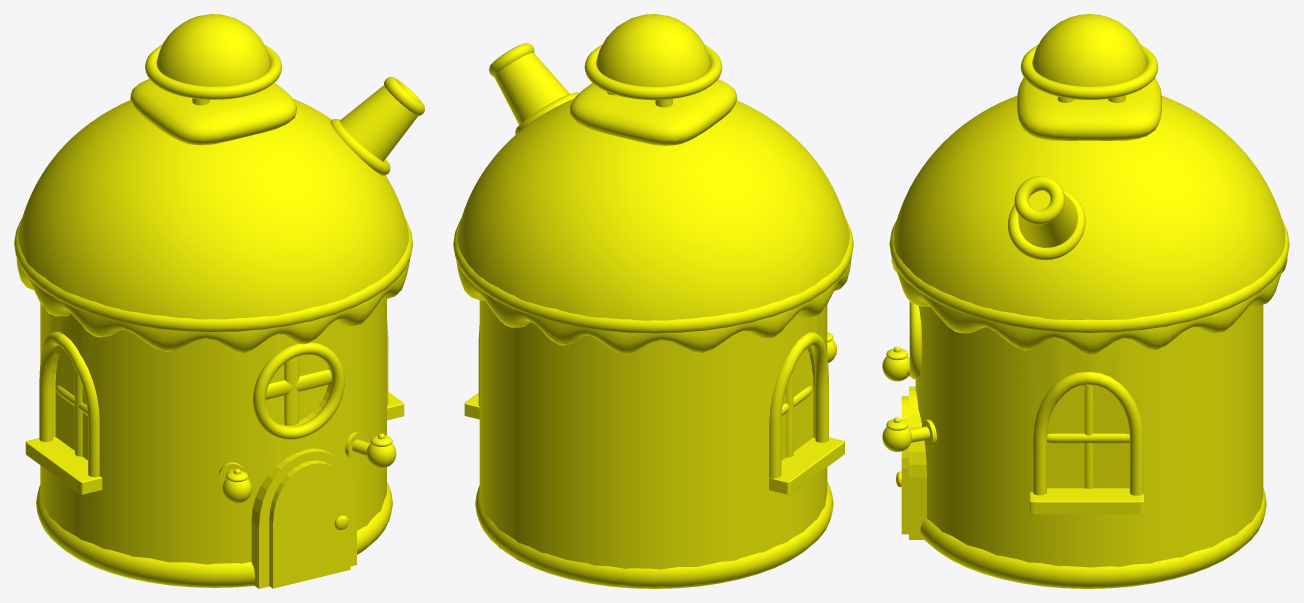
The model's file is home2.glb.
3 views of the same model, side by side, from view 1: azimuth 30°, elevation 25°; view 2: azimuth 150°, elevation 25°; view 3: azimuth 270°, elevation 25° (orthographic).
Visible parts, largest first — view 1: Roundcube.001, Roundcube, Cube.002, Cube.021, Roundcube.004, BézierCircle.009, BézierCircle.010, Roundcube.003, BézierCircle, Cylinder.007, Cube.020, BézierCircle.002 (+6 smaller); view 2: Roundcube, Roundcube.001, BézierCircle.009, Cube.021, Roundcube.004, BézierCircle.010, Roundcube.003, Cylinder.007, Cube.020, BézierCircle.002, Cube.027, BézierCircle.008; view 3: Roundcube, Roundcube.001, BézierCircle.009, Roundcube.004, Cube.021, BézierCircle.010, Roundcube.003, Cube.002, Cube.020, BézierCircle.002, Cylinder.007, BézierCircle.008 (+5 smaller).
Boxes of the visible parts, bbox=[...] form: Roundcube.001: bbox=[16, 98, 409, 353]; Roundcube: bbox=[40, 299, 386, 564]; Cube.002: bbox=[251, 448, 356, 588]; Cube.021: bbox=[130, 79, 296, 145]; Roundcube.004: bbox=[156, 14, 270, 86]; BézierCircle.009: bbox=[36, 482, 392, 587]; BézierCircle.010: bbox=[14, 217, 412, 331]; Roundcube.003: bbox=[39, 321, 388, 477]; BézierCircle: bbox=[253, 342, 344, 439]; Cylinder.007: bbox=[340, 85, 417, 161]; Cube.020: bbox=[25, 392, 404, 494]; BézierCircle.002: bbox=[145, 44, 281, 99]; Roundcube: bbox=[479, 300, 827, 587]; Roundcube.001: bbox=[456, 99, 851, 354]; BézierCircle.009: bbox=[475, 482, 833, 588]; Cube.021: bbox=[569, 79, 736, 145]; Roundcube.004: bbox=[596, 14, 710, 86]; BézierCircle.010: bbox=[453, 218, 853, 333]; Roundcube.003: bbox=[478, 325, 828, 478]; Cylinder.007: bbox=[494, 52, 569, 124]; Cube.020: bbox=[464, 393, 844, 494]; BézierCircle.002: bbox=[584, 44, 722, 100]; Cube.027: bbox=[785, 370, 793, 457]; BézierCircle.008: bbox=[489, 43, 534, 76]; Roundcube: bbox=[915, 305, 1263, 567]; Roundcube.001: bbox=[891, 96, 1287, 355]; BézierCircle.009: bbox=[920, 488, 1266, 588]; Roundcube.004: bbox=[1032, 14, 1146, 86]; Cube.021: bbox=[1017, 77, 1161, 140]; BézierCircle.010: bbox=[889, 220, 1289, 332]; Roundcube.003: bbox=[1033, 371, 1143, 495]; Cube.002: bbox=[901, 386, 926, 539]; Cube.020: bbox=[1030, 488, 1143, 514]; BézierCircle.002: bbox=[1020, 44, 1158, 99]; Cylinder.007: bbox=[1018, 190, 1077, 247]; BézierCircle.008: bbox=[1014, 176, 1064, 224].
Size of the model in its own units: 10.92 by 14.59 by 10.78.
1 material, 1 textured.
